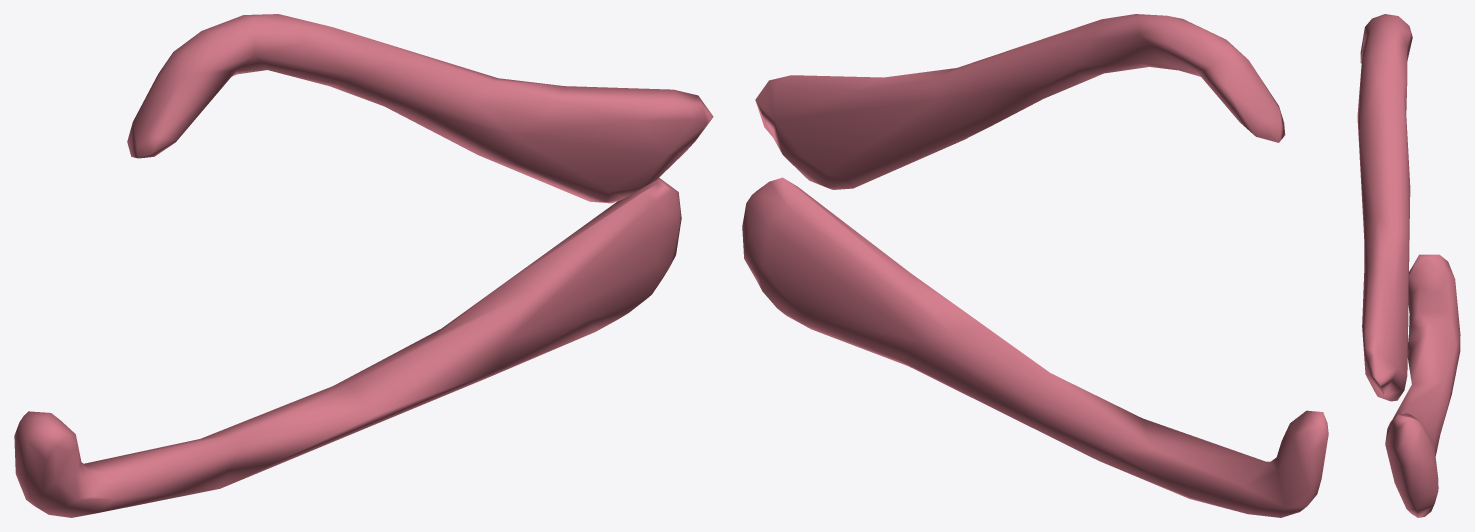
Rendered from Lacrimal_canaliculus_right.glb.
3 views of the same model, side by side, from view 1: azimuth 30°, elevation 25°; view 2: azimuth 150°, elevation 25°; view 3: azimuth 270°, elevation 25° (orthographic). The views are drawn at different scales.
Visible parts, largest first — view 1: Lacrimal_canaliculus.r_grp1.076; view 2: Lacrimal_canaliculus.r_grp1.076; view 3: Lacrimal_canaliculus.r_grp1.076.
Boxes of the visible parts, x1,y1,x2,y2 form: Lacrimal_canaliculus.r_grp1.076: [14, 14, 713, 517]; Lacrimal_canaliculus.r_grp1.076: [742, 14, 1328, 517]; Lacrimal_canaliculus.r_grp1.076: [1357, 14, 1460, 517].
Bounding box in the file's own units: 0.00706 × 0.00501 × 0.00116.
